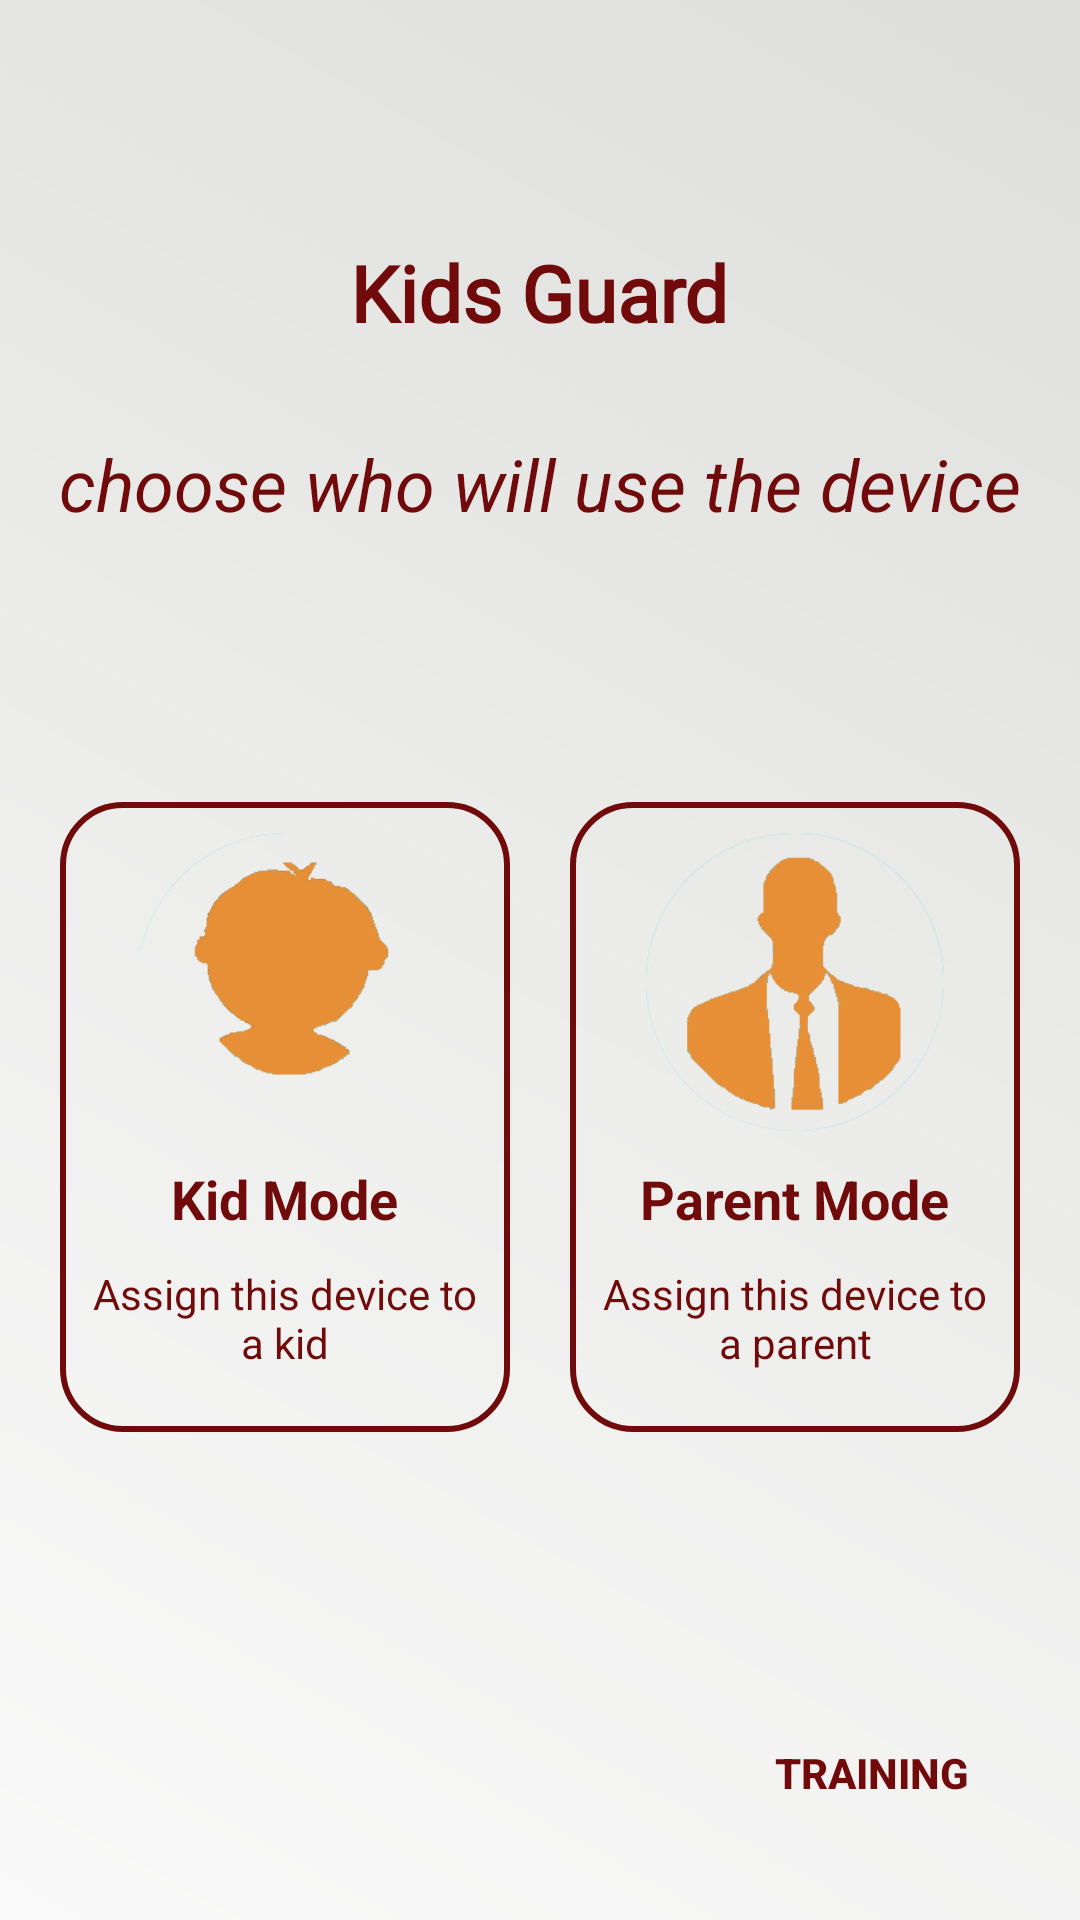

Where icons sit on this 1080px×1920px app screen, as (x1, y1, x2, y2):
kidnew: (141, 833, 389, 1075)
